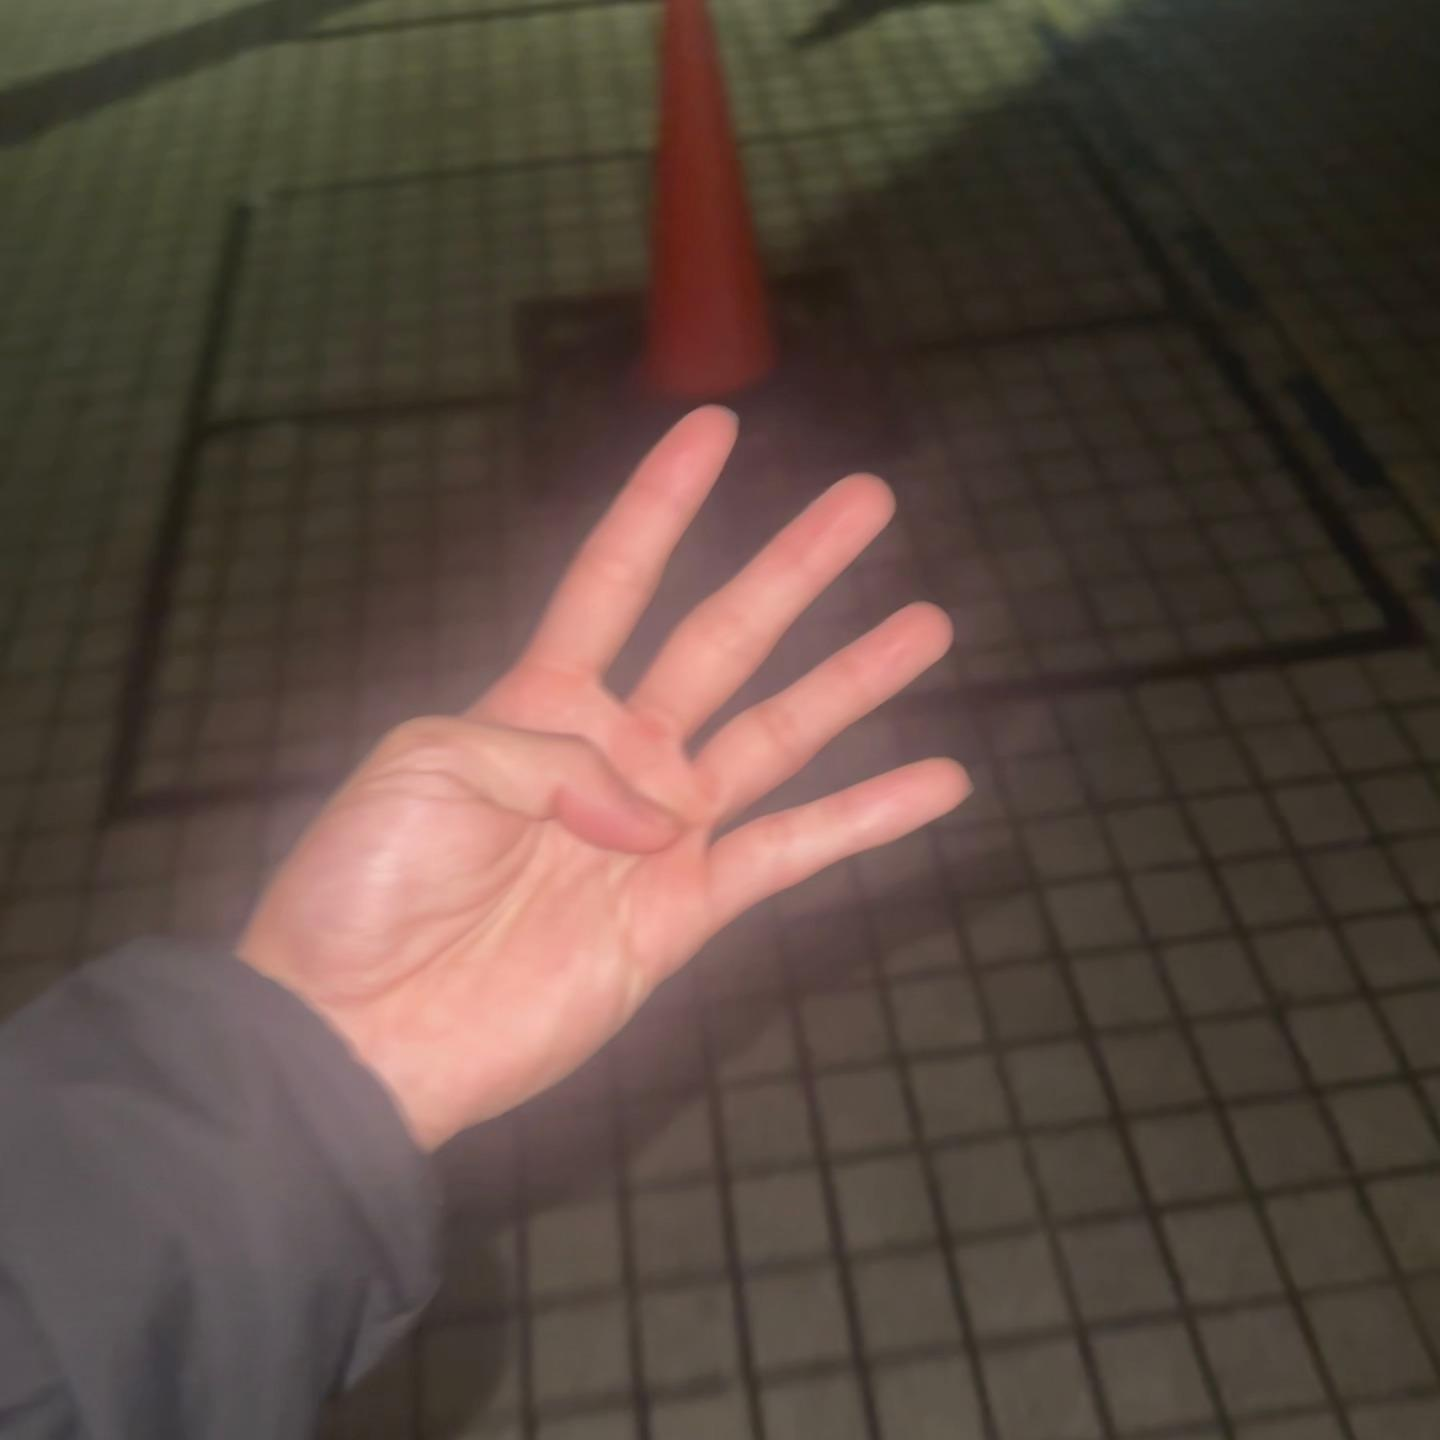without_gloves: (195, 231, 990, 1134)
